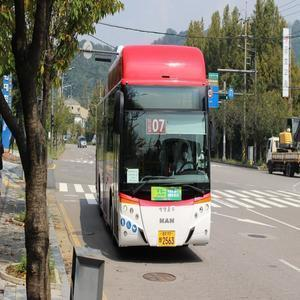07bus: (82, 44, 228, 249)
